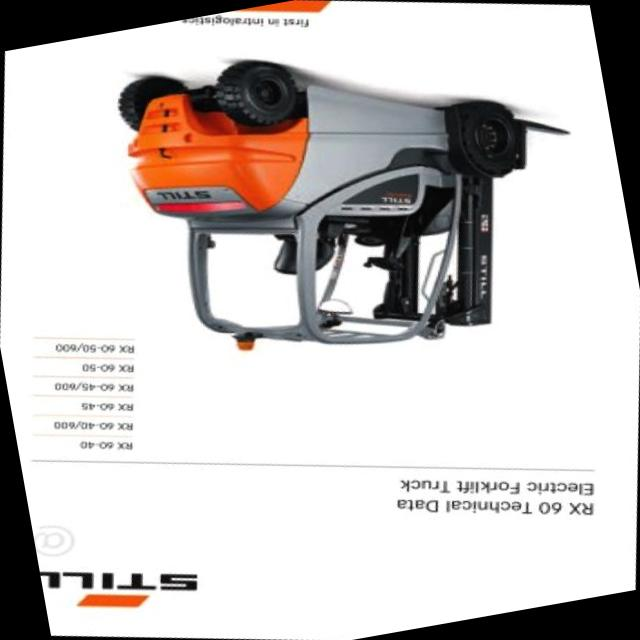forklift: (47, 0, 580, 430)
